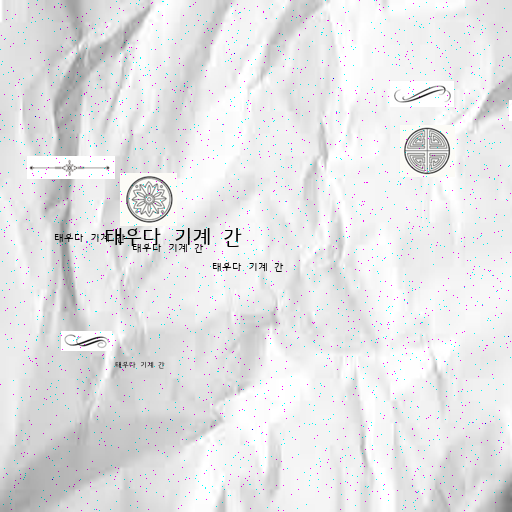text: (104, 224, 244, 244), (54, 231, 124, 241), (212, 260, 282, 270), (132, 241, 202, 251), (115, 360, 164, 367)
